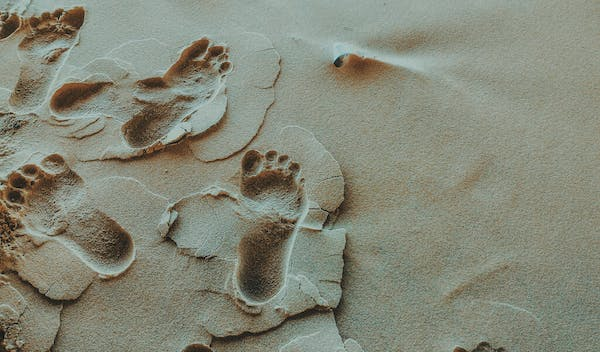human_footprint: (0, 0, 343, 317)
